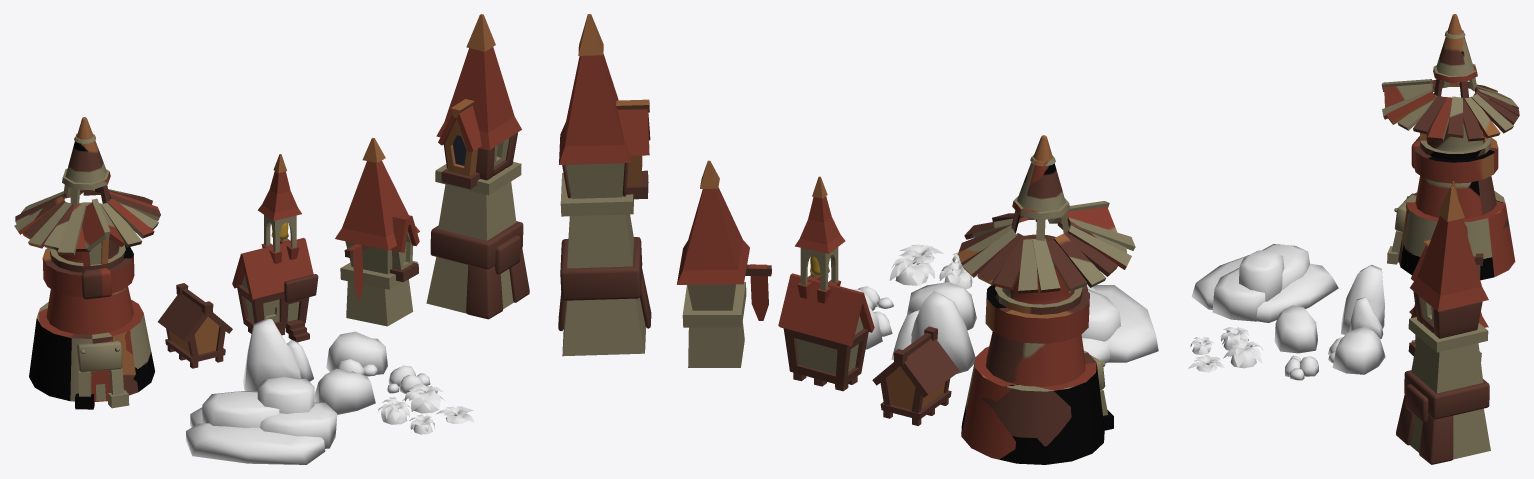
Rendered from assets-environment.fbx.
The picture shows the model from 3 angles, left to right: view 1: azimuth 30°, elevation 25°; view 2: azimuth 150°, elevation 25°; view 3: azimuth 270°, elevation 25°; orthographic projection. The views are drawn at different scales.
Parts seen in each view (by area): view 1: o_big-tower, o_medium-tower, o_rocks1, o_small-tower, o_tavern, o_house, o_rocks2, o_rocks4, o_rocks3, o_big-bush, o_rocks5, o_bush-big-dead; view 2: o_big-tower, o_medium-tower, o_tavern, o_small-tower, o_house, o_rocks1, o_rocks2, o_rocks3, o_big-bush, o_rocks4, o_bush-big-dead; view 3: o_big-tower, o_medium-tower, o_rocks1, o_rocks2, o_rocks4, o_rocks3, o_big-bush, o_rocks5, o_bush-big-dead, o_bush-small.
Boxes of the visible parts, <box> form: o_big-tower: <box>14,117,160,409</box>; o_medium-tower: <box>426,14,529,319</box>; o_rocks1: <box>186,377,337,464</box>; o_small-tower: <box>335,138,419,326</box>; o_tavern: <box>232,154,318,342</box>; o_house: <box>158,283,232,368</box>; o_rocks2: <box>243,318,313,391</box>; o_rocks4: <box>326,331,387,376</box>; o_rocks3: <box>314,368,375,414</box>; o_big-bush: <box>402,383,444,413</box>; o_rocks5: <box>387,365,430,393</box>; o_bush-big-dead: <box>378,397,410,424</box>; o_big-tower: <box>958,135,1135,464</box>; o_medium-tower: <box>558,14,651,356</box>; o_tavern: <box>778,176,874,391</box>; o_small-tower: <box>677,160,771,367</box>; o_house: <box>872,326,959,425</box>; o_rocks1: <box>1081,284,1158,363</box>; o_rocks2: <box>891,290,975,373</box>; o_rocks3: <box>906,282,976,330</box>; o_big-bush: <box>889,252,934,286</box>; o_rocks4: <box>865,306,892,349</box>; o_bush-big-dead: <box>939,261,976,289</box>; o_big-tower: <box>1381,14,1519,280</box>; o_medium-tower: <box>1396,186,1490,464</box>; o_rocks1: <box>1191,244,1338,322</box>; o_rocks2: <box>1341,264,1384,338</box>; o_rocks4: <box>1328,327,1385,374</box>; o_rocks3: <box>1274,305,1317,353</box>; o_big-bush: <box>1223,339,1262,368</box>; o_rocks5: <box>1284,355,1318,380</box>; o_bush-big-dead: <box>1220,327,1249,350</box>; o_bush-small: <box>1188,355,1224,372</box>.
Bounding box in the file's own units: 5.9 × 5.13 × 9.49.
